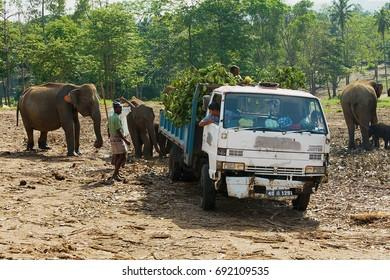truck: (160, 84, 330, 216)
